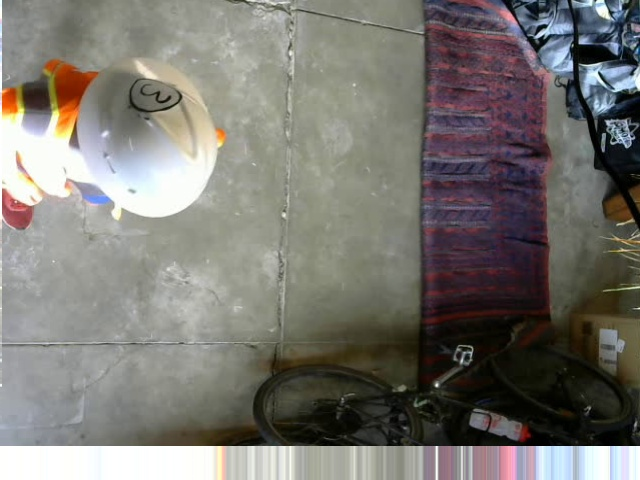three: (131, 77, 182, 113)
